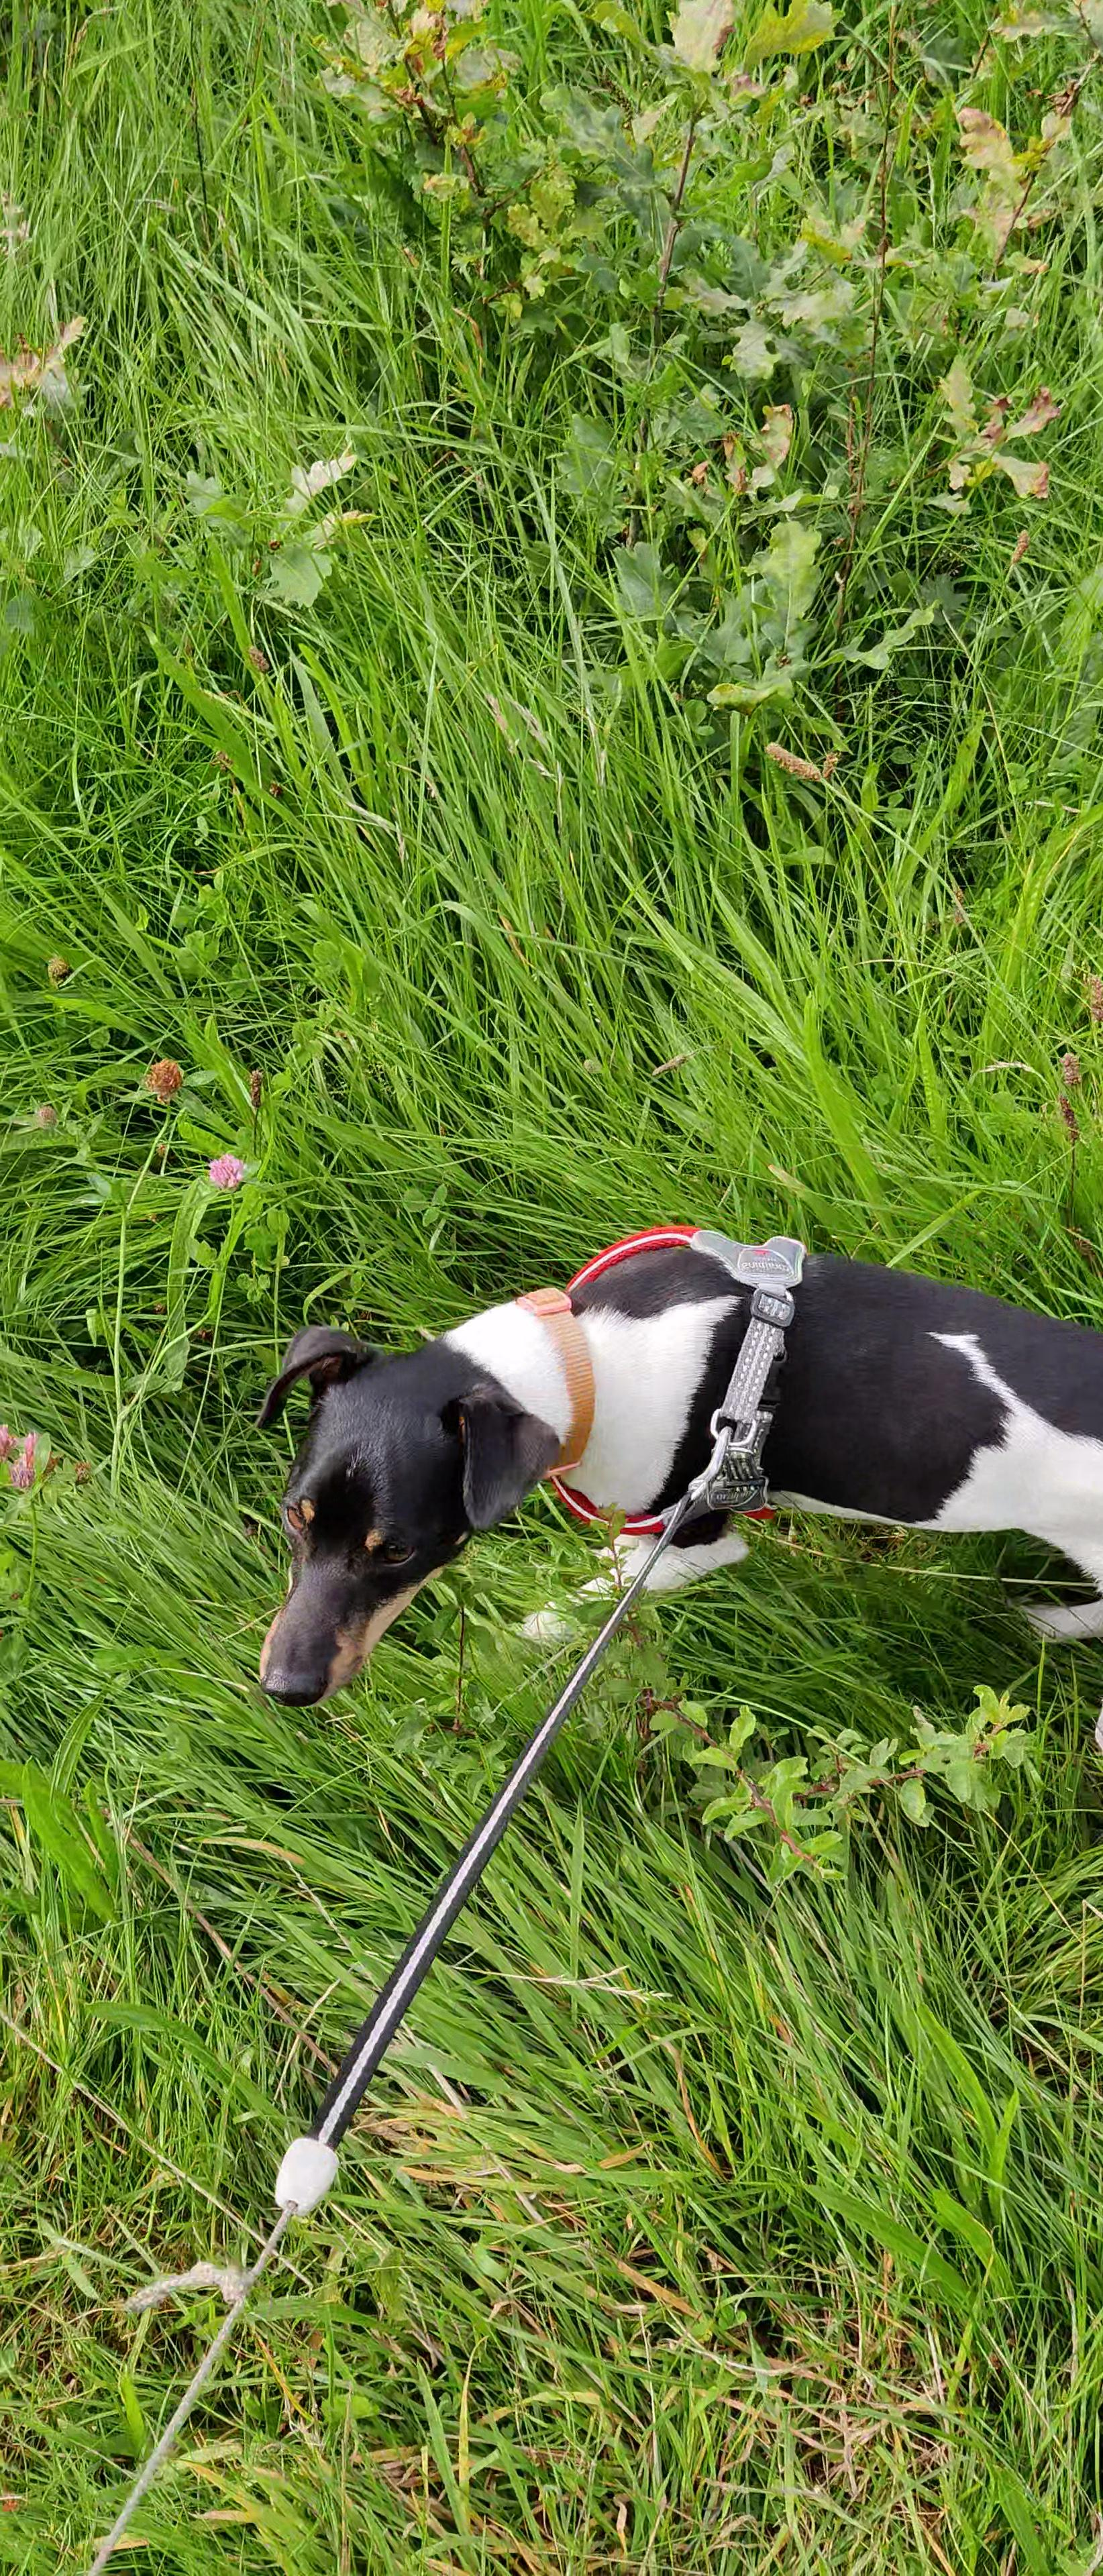Dog: (247, 1211, 1103, 1720)
